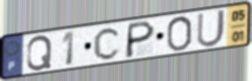1: (61, 29, 76, 68)
C: (92, 26, 123, 62)
O: (165, 15, 194, 53)
P: (123, 19, 157, 60)
Q: (25, 34, 54, 73)
U: (195, 8, 227, 49)
